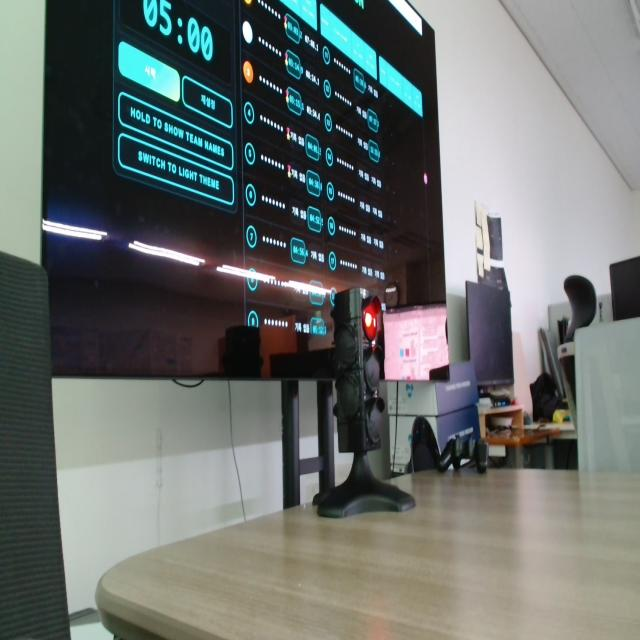red_light: (363, 297, 381, 341)
